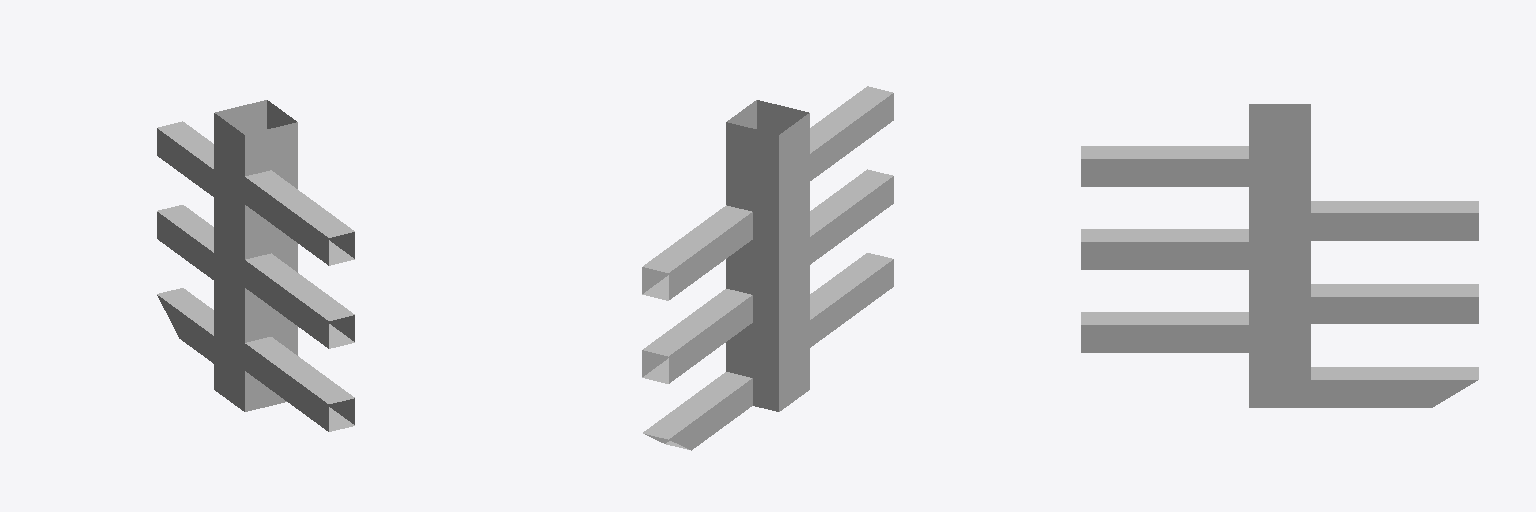
The model's file is mixer_agitator.obj.
3 views of the same model, side by side, from view 1: azimuth 30°, elevation 25°; view 2: azimuth 150°, elevation 25°; view 3: azimuth 270°, elevation 25° (orthographic).
Visible parts, largest first — view 1: agitator; view 2: agitator; view 3: agitator.
Boxes of the visible parts, x1,y1,x2,y2 form: agitator: [157, 100, 354, 431]; agitator: [642, 86, 893, 450]; agitator: [1081, 104, 1478, 407].
Bounding box in the file's own units: 0.25 × 1.25 × 1.62.